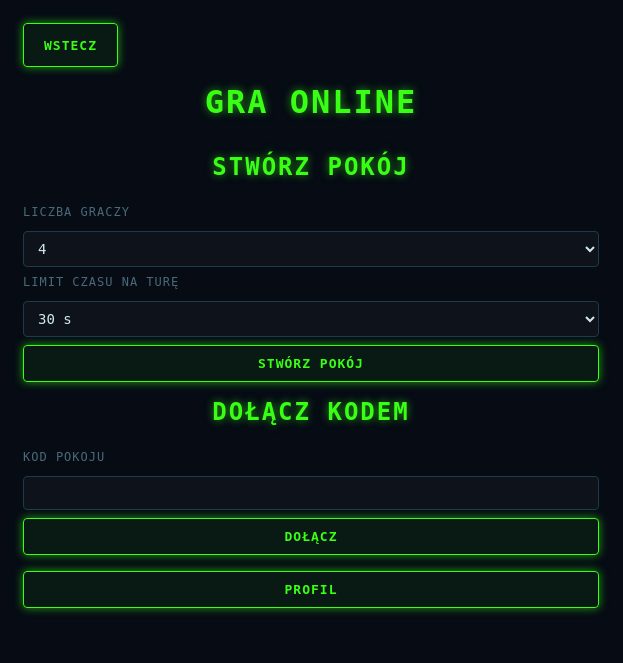
Test: OnlineMenuScreen › shows the error message when joining fails
This screenshot has width=623, height=663.
Type "ZZZZZ" into the field labelled "Kod pokoju". click: (311, 493)
box: x1=23 y1=476 x2=599 y2=510
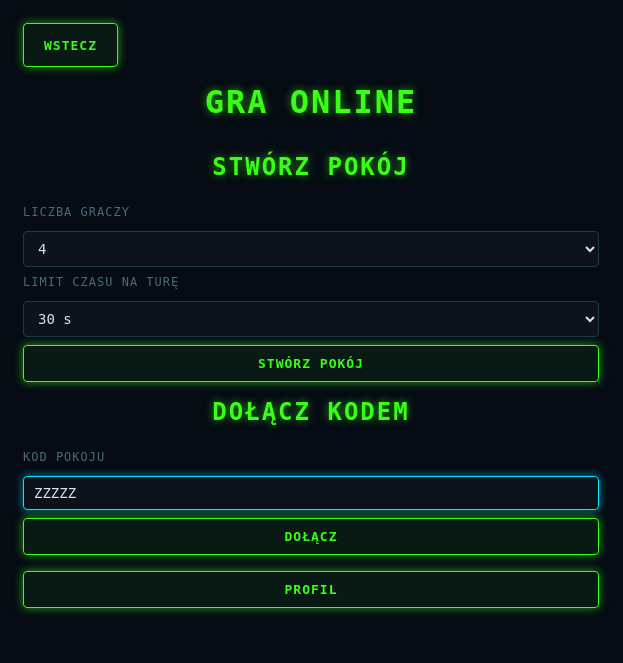
Click the button "Dołącz". click: (311, 536)
box: x1=23 y1=518 x2=599 y2=555
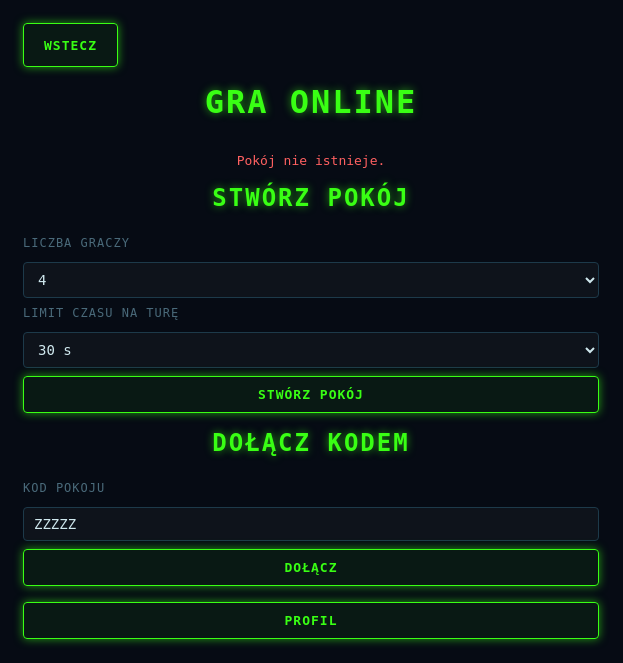
Check: the text "Pokój nie istnieje." is shown, box x1=237 y1=153 x2=385 y2=168
